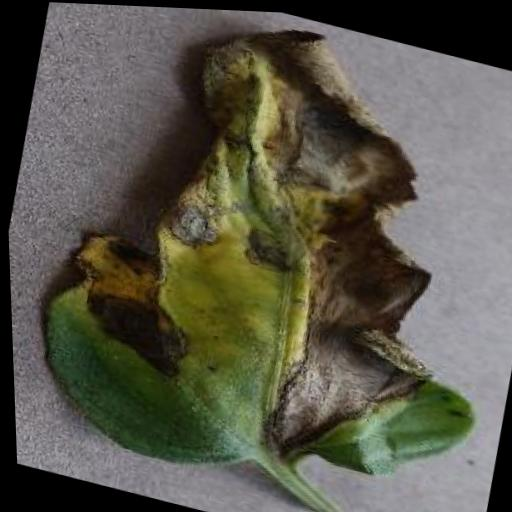Early Blight: (10, 0, 512, 512)
